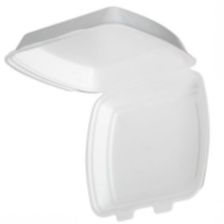foam_box: (1, 2, 214, 224)
